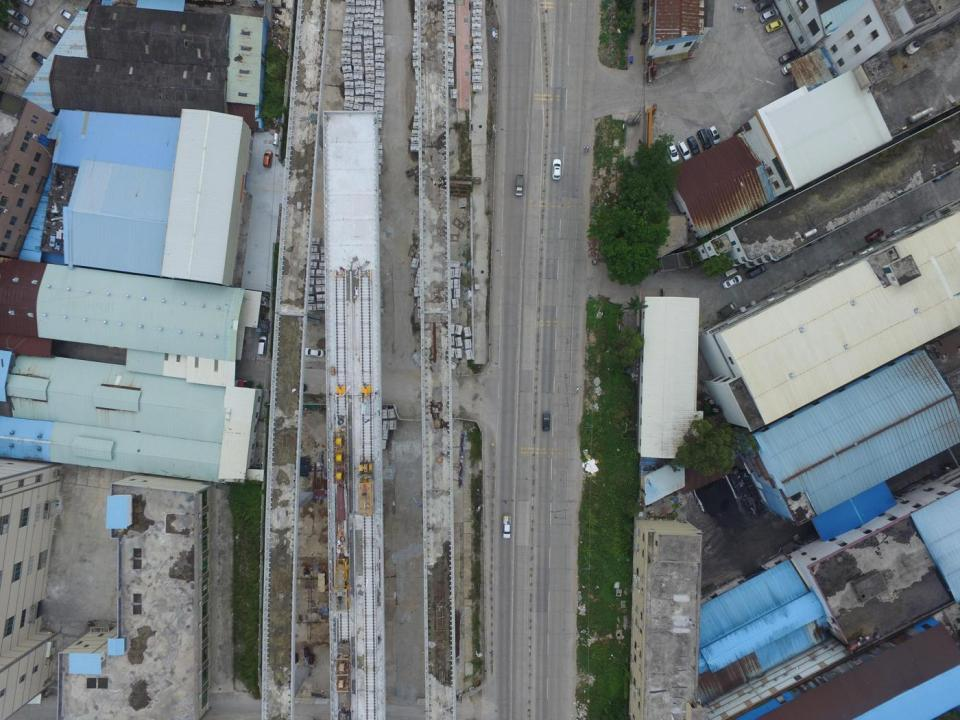car: (5, 7, 31, 25), (6, 20, 28, 38), (745, 263, 768, 280), (696, 128, 712, 152), (665, 139, 680, 163), (778, 48, 800, 64), (759, 6, 779, 23), (722, 274, 743, 289), (864, 228, 884, 243), (677, 141, 691, 162), (781, 60, 802, 74), (59, 8, 77, 24), (708, 125, 722, 145), (687, 135, 700, 156), (31, 51, 49, 66), (43, 31, 61, 46), (765, 19, 784, 33), (304, 346, 325, 358), (551, 158, 562, 180), (754, 0, 774, 11), (262, 149, 273, 168), (52, 23, 68, 36), (542, 411, 551, 432)
truck: (718, 300, 736, 318), (502, 513, 512, 540), (514, 174, 525, 197)
van: (256, 334, 267, 355)
